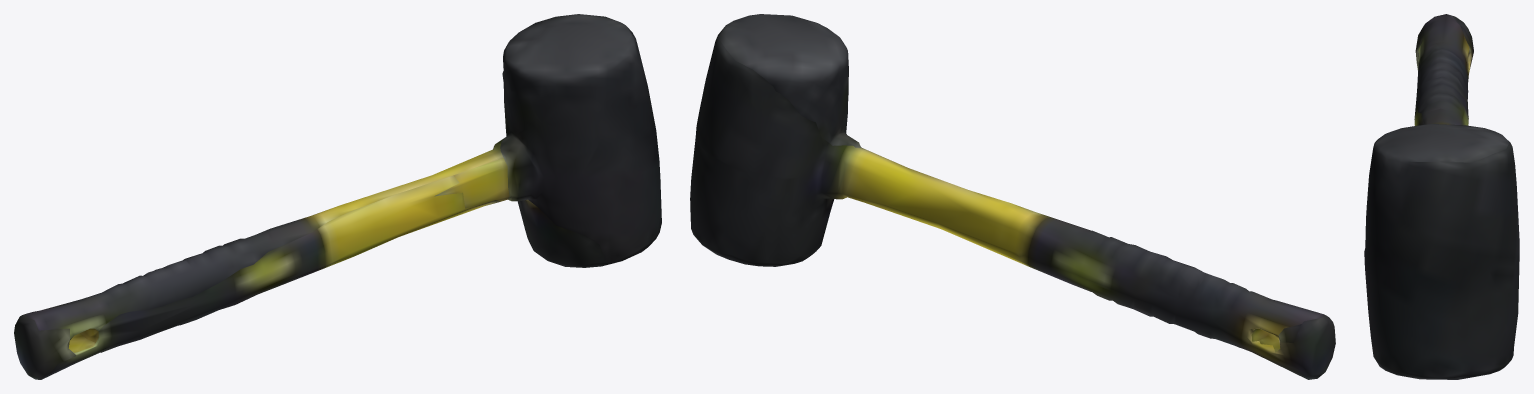
File: Cole_Hardware_Hammer_Black-medium.glb
3 views of the same model, side by side, from view 1: azimuth 30°, elevation 25°; view 2: azimuth 150°, elevation 25°; view 3: azimuth 270°, elevation 25° (orthographic). The views are drawn at different scales.
Visible parts, largest first — view 1: Cole_Hardware_Hammer_Black; view 2: Cole_Hardware_Hammer_Black; view 3: Cole_Hardware_Hammer_Black.
Part boxes in pixels (<box>): Cole_Hardware_Hammer_Black: <box>14,14,661,379</box>; Cole_Hardware_Hammer_Black: <box>690,14,1335,379</box>; Cole_Hardware_Hammer_Black: <box>1364,14,1519,379</box>.
Bounding box in the file's own units: 0.2916 × 0.0959 × 0.06.
1 material, 1 textured.
